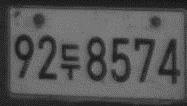2: (38, 34, 58, 81)
4: (156, 37, 180, 84)
5: (109, 36, 132, 82)
7: (134, 37, 156, 81)
8: (85, 35, 107, 82)
9: (13, 32, 36, 80)
두: (60, 42, 81, 82)
